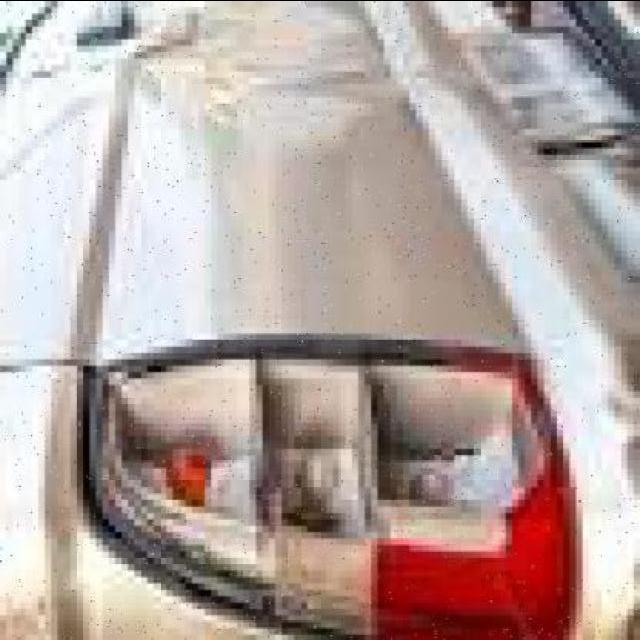Taillight-Damage: (18, 276, 633, 640)
